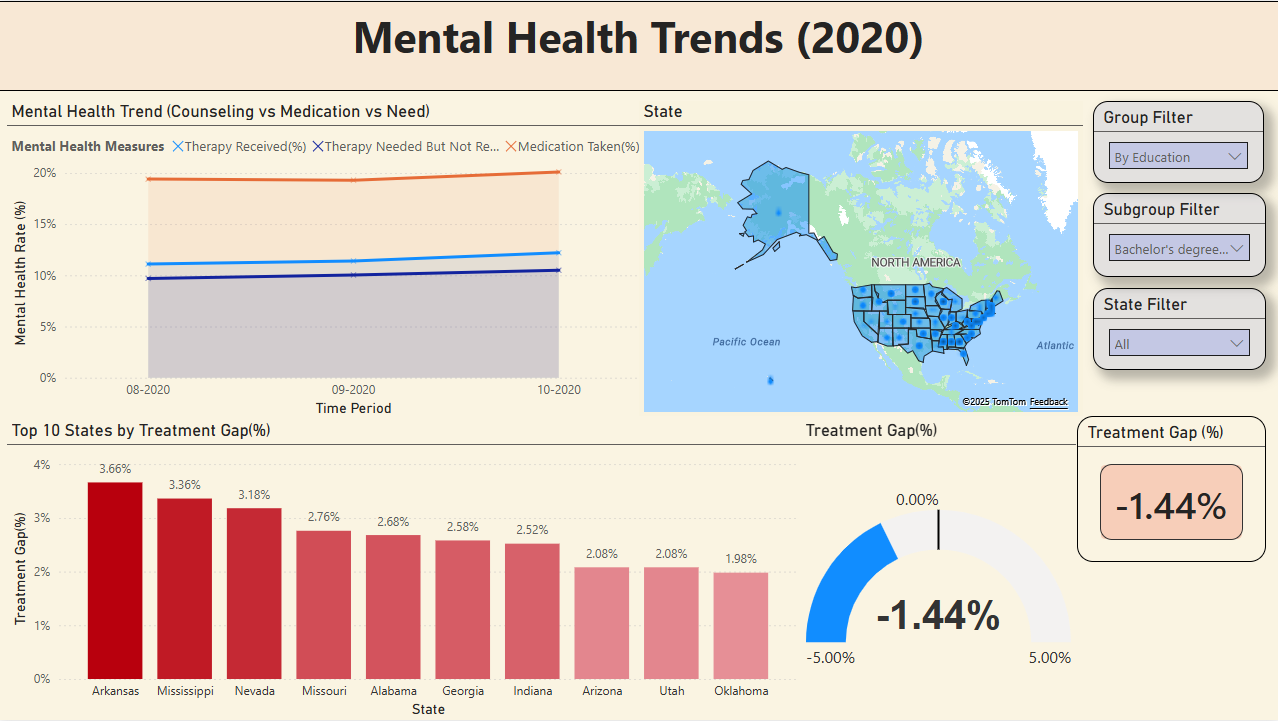

This screenshot's page, from the dashboard's own definition file:
{"tool":"powerbi","page":{"name":"Page 1","canvas":[1280,720],"ordinal":0},"visuals":[{"type":"lineChart","title":"Mental Health Trend (Counseling vs Medication vs Need)","fields":{"Category":["Calendar.YearMonth"],"Y":["Mental_Health_Care_in_the_Last_4_Weeks.TherapyReceived%","Mental_Health_Care_in_the_Last_4_Weeks.TherapyNeededButNotReceived%","Mental_Health_Care_in_the_Last_4_Weeks.MedicationTaken%"]},"box":[8.1,99.7,639.2,319.6],"z":0},{"type":"slicer","title":"State Filter","fields":{"Values":["Mental_Health_Care_in_the_Last_4_Weeks.State"]},"box":[1094.2,286.9,173.1,82.5],"z":1000},{"type":"slicer","title":"Group Filter","fields":{"Values":["Mental_Health_Care_in_the_Last_4_Weeks.Group"]},"box":[1094.2,99.9,170.7,82.5],"z":2000},{"type":"slicer","title":"Subgroup Filter","fields":{"Values":["Mental_Health_Care_in_the_Last_4_Weeks.Subgroup"]},"box":[1094.2,191.7,173.1,84.8],"z":3000},{"type":"textbox","box":[0,0,1280,89.7],"z":4000},{"type":"azureMap","fields":{"Category":["Mental_Health_Care_in_the_Last_4_Weeks.State"]},"box":[640,99.9,443.7,314.8],"z":5000},{"type":"cardVisual","title":"Treatment Gap (%)","fields":{"Data":["Mental_Health_Care_in_the_Last_4_Weeks.Treatment Gap(%)"]},"box":[1077.9,414.7,189.3,146.4],"z":6000},{"type":"clusteredColumnChart","title":"Top 10 States by Treatment Gap(%)","fields":{"Category":["Mental_Health_Care_in_the_Last_4_Weeks.State"],"Y":["Mental_Health_Care_in_the_Last_4_Weeks.Treatment Gap(%)"]},"box":[8.1,419.3,794.5,300.8],"z":7000},{"type":"gauge","fields":{"Y":["Mental_Health_Care_in_the_Last_4_Weeks.Treatment Gap(%)"]},"box":[802.3,419.3,275.1,285.2],"z":8000}]}

Visuals, with their boxes in screenshot pixels (x1, y1, x2, y2), scaled from the page's 1280x720 canvas onto the 1278x721 screenshot:
"Mental Health Trend (Counseling vs Medication vs Need)" lineChart: [8,100,646,420]
"State Filter" slicer: [1092,287,1265,370]
"Group Filter" slicer: [1092,100,1263,183]
"Subgroup Filter" slicer: [1092,192,1265,277]
textbox: [0,0,1277,90]
azureMap - Mental_Health_Care_in_the_Last_4_Weeks.State: [639,100,1082,415]
"Treatment Gap (%)" cardVisual: [1076,415,1265,562]
"Top 10 States by Treatment Gap(%)" clusteredColumnChart: [8,420,801,720]
gauge - Mental_Health_Care_in_the_Last_4_Weeks.Treatment Gap(%): [801,420,1076,705]
